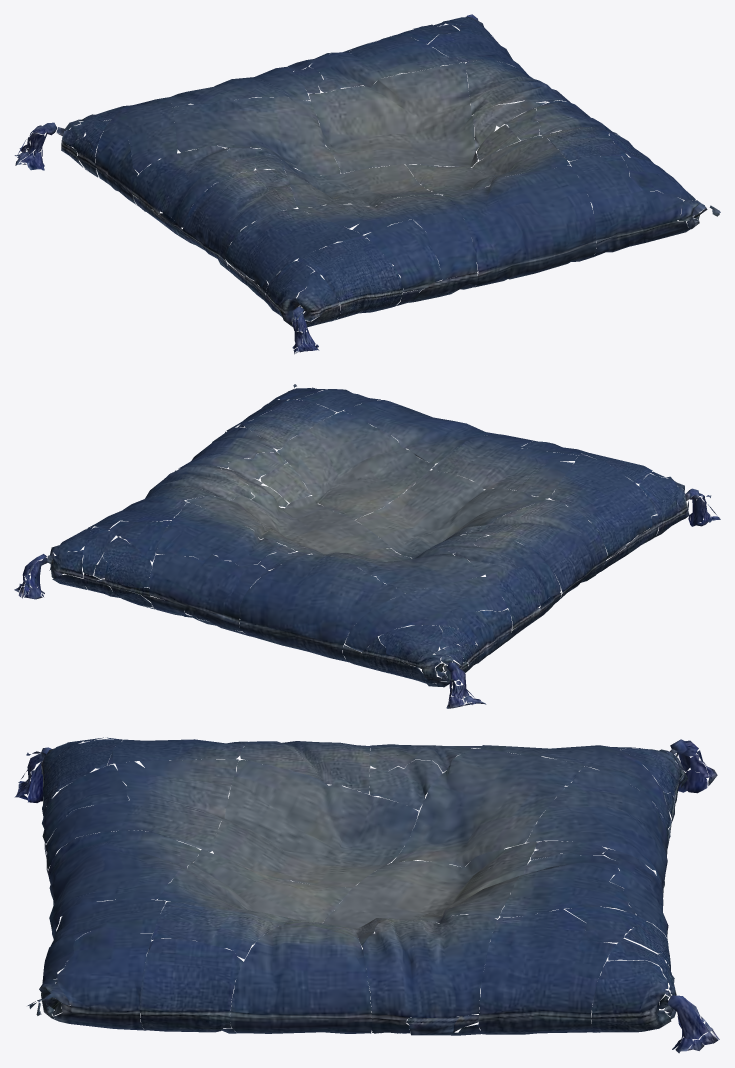
Rendered from zabuton_prop.glb.
3 views of the same model, one above another, from view 1: azimuth 30°, elevation 25°; view 2: azimuth 150°, elevation 25°; view 3: azimuth 270°, elevation 25° (orthographic). The views are drawn at different scales.
Visible parts, largest first — view 1: prop_zabuton; view 2: prop_zabuton; view 3: prop_zabuton.
Boxes of the visible parts, box(x1,y1,x2,y2) form: prop_zabuton: box(14, 14, 720, 354); prop_zabuton: box(14, 384, 720, 708); prop_zabuton: box(14, 737, 719, 1053).
Bounding box in the file's own units: 0.9787 × 0.1638 × 0.981.
Materials: 1 (1 with a texture image).
